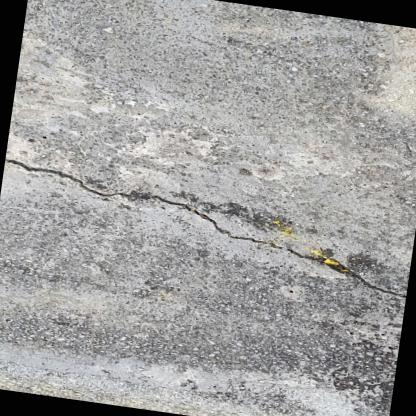crack: (5, 156, 406, 297)
